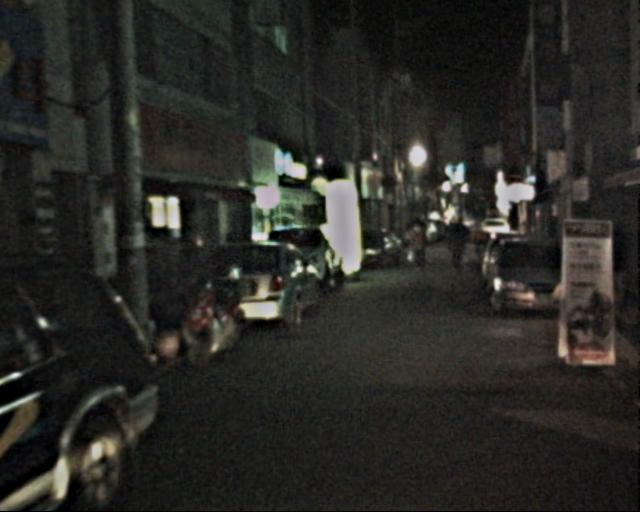person: (447, 217, 473, 271), (411, 222, 437, 272)
